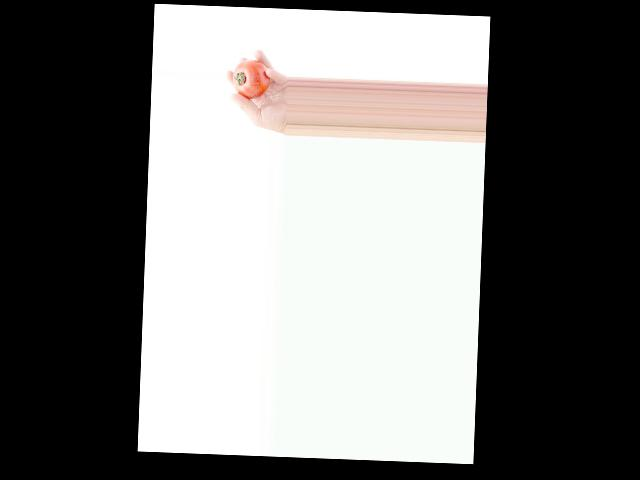tomato: (232, 58, 270, 99)
